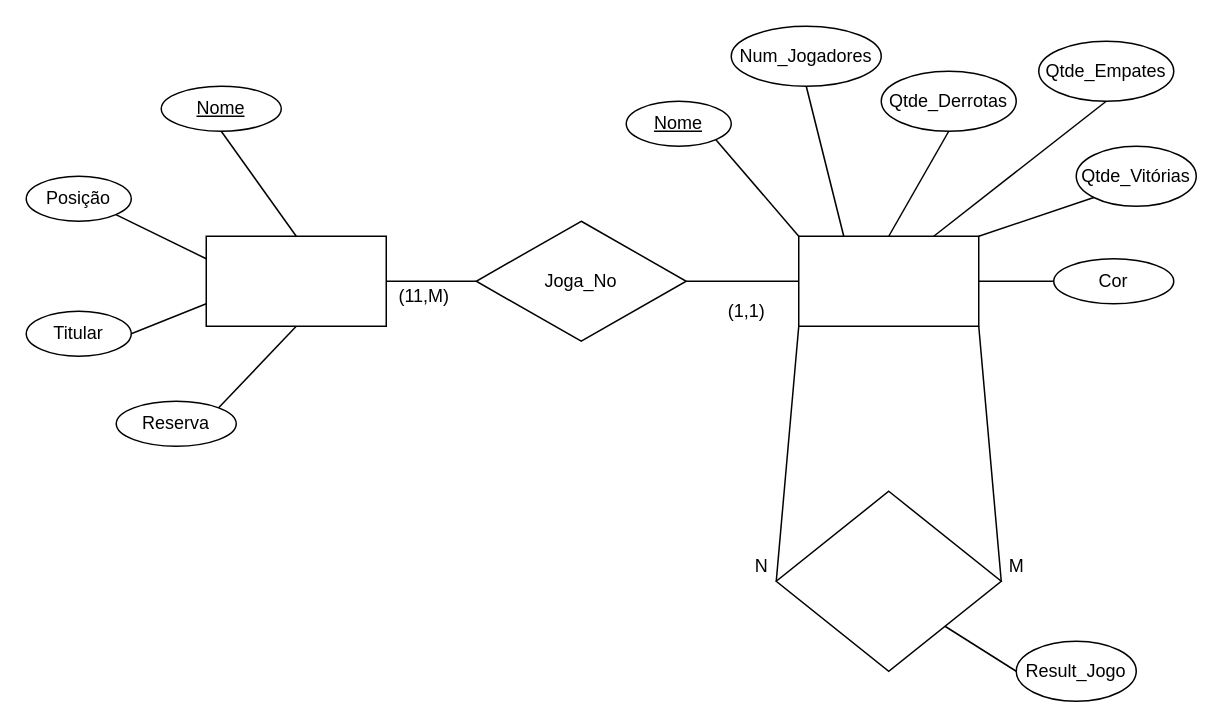
Image size: 1223x728. Some labels were removed from this diagram. Here are the shapes that lost their labels. From the top down, the centre of each, then its label:
At point 295,280: "Jogador".
At point 888,280: "Time".
At point 888,580: "Joga_contra".
